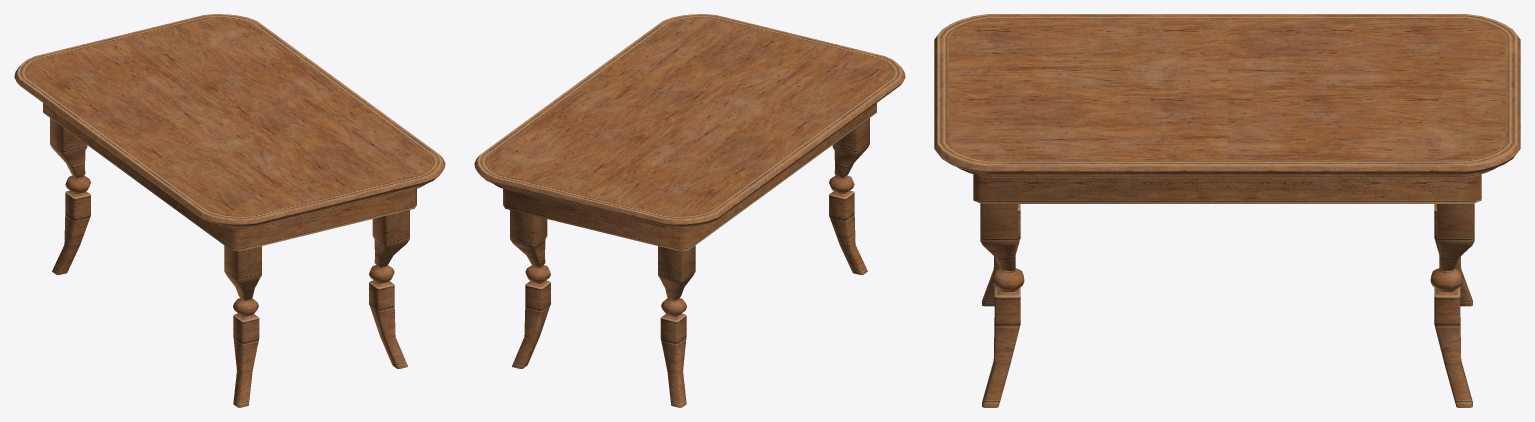
The model's file is Table_02.fbx.
3 renders of one model, left to right at view 1: azimuth 30°, elevation 25°; view 2: azimuth 150°, elevation 25°; view 3: azimuth 270°, elevation 25°, orthographic. The views are drawn at different scales.
Parts seen in each view (by area): view 1: Table_02; view 2: Table_02; view 3: Table_02.
Part boxes in pixels (<box>): Table_02: <box>14,14,445,407</box>; Table_02: <box>474,14,905,407</box>; Table_02: <box>934,14,1520,407</box>.
Size of the model in its own units: 140 by 112 by 225.
Materials: 1 (1 with a texture image).
